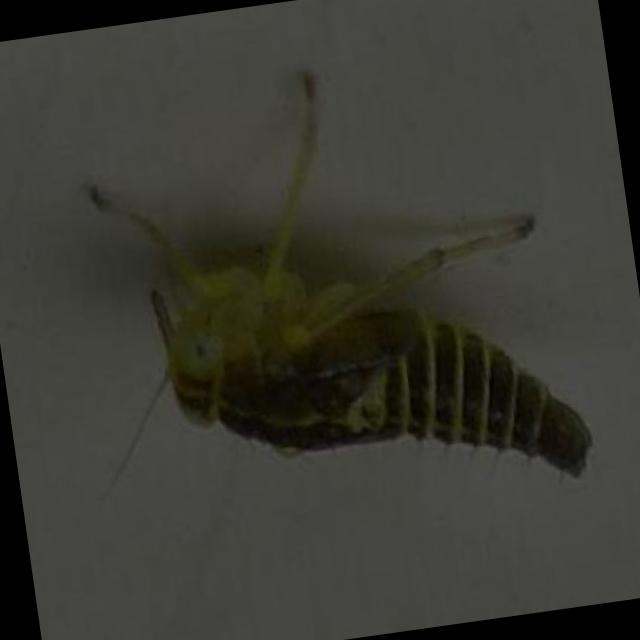green-leafhopper: (118, 135, 592, 539)
